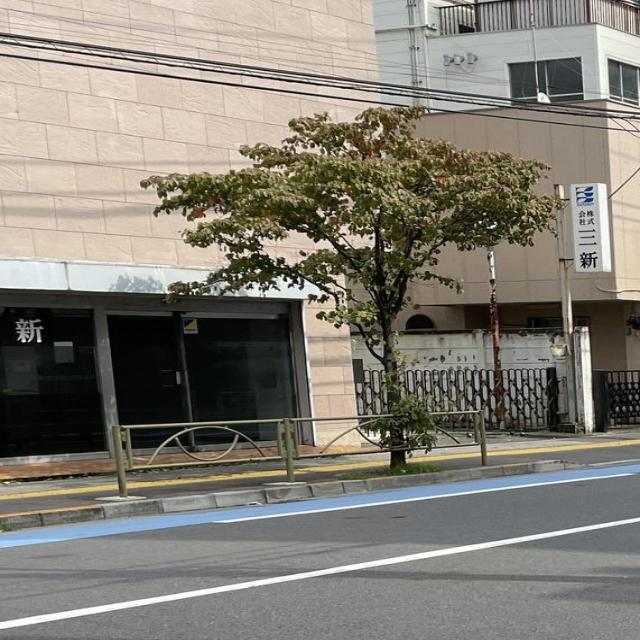dogwood: (140, 103, 572, 473)
